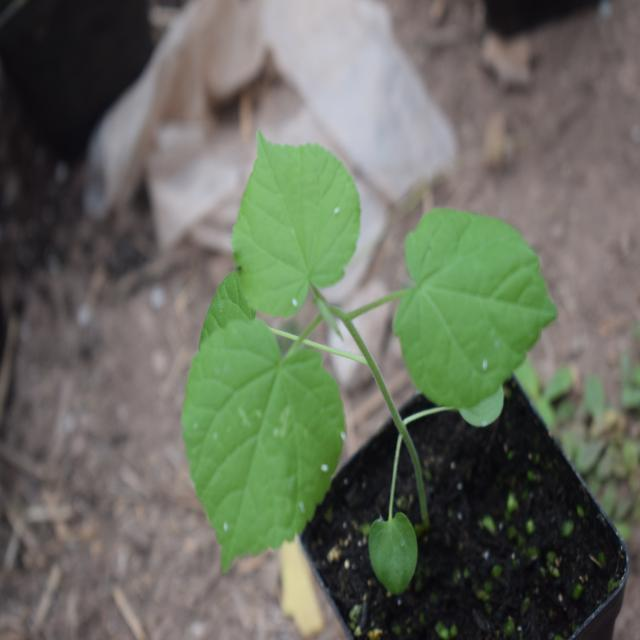abutilon theophrasti: (173, 121, 553, 575)
